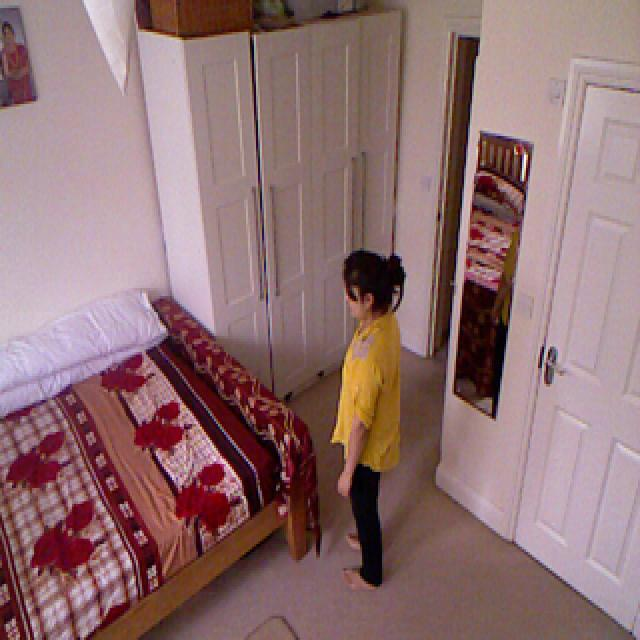standing: (335, 251, 406, 591)
